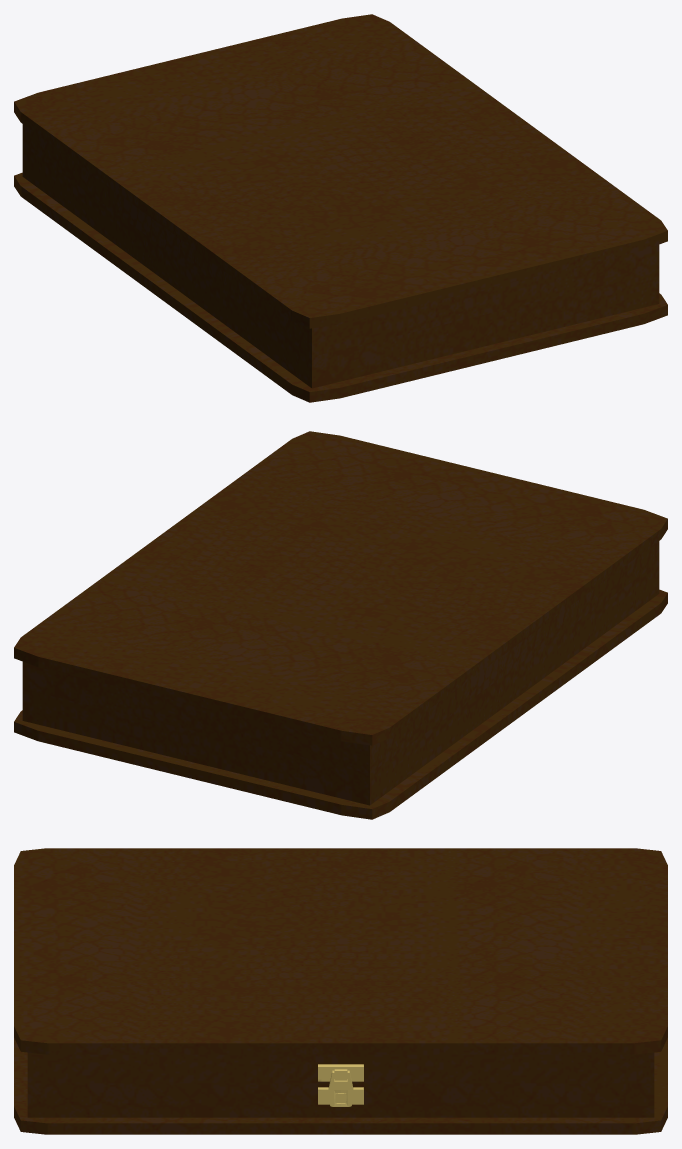
File: slideCaseClosed.glb
3 renders of one model, top to bottom at view 1: azimuth 30°, elevation 25°; view 2: azimuth 150°, elevation 25°; view 3: azimuth 270°, elevation 25°, orthographic. The views are drawn at different scales.
Parts seen in each view (by area): view 1: slideCase_grp slideCase_upper case_upper, case_lower slideCase_grp; view 2: slideCase_grp slideCase_upper case_upper, case_lower slideCase_grp; view 3: slideCase_grp slideCase_upper case_upper, case_lower slideCase_grp, slideCase_grp case_upper latch.
Part boxes in pixels (bbox=[...]): slideCase_grp slideCase_upper case_upper: bbox=[14, 14, 667, 356]; case_lower slideCase_grp: bbox=[14, 145, 667, 402]; slideCase_grp slideCase_upper case_upper: bbox=[14, 431, 667, 773]; case_lower slideCase_grp: bbox=[14, 562, 667, 819]; slideCase_grp slideCase_upper case_upper: bbox=[14, 848, 667, 1083]; case_lower slideCase_grp: bbox=[14, 1038, 667, 1134]; slideCase_grp case_upper latch: bbox=[328, 1070, 353, 1106].
Bounding box in the file's own units: 0.0165 × 0.00361 × 0.0234.
Materials: 1 (1 with a texture image).
